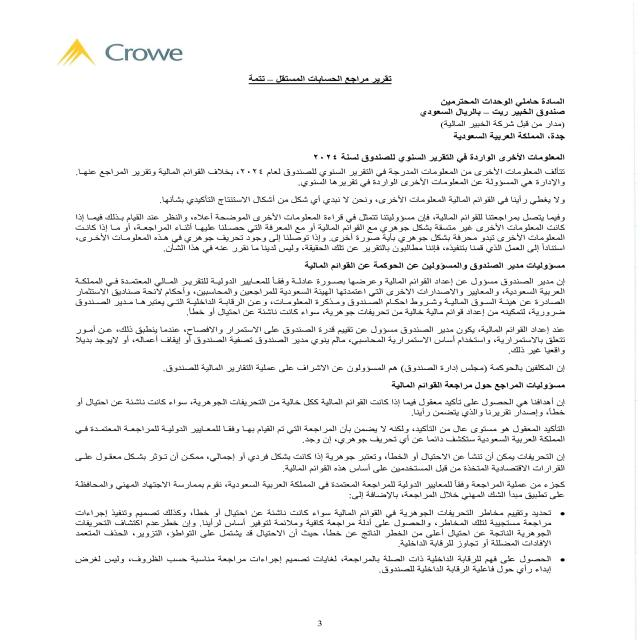auditor_report: (238, 67, 406, 87)
